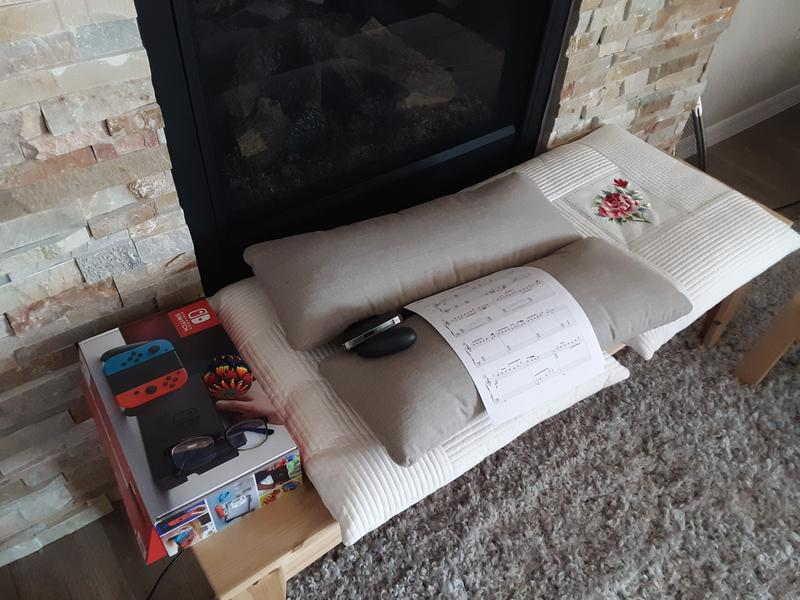glasses: (162, 416, 276, 478)
